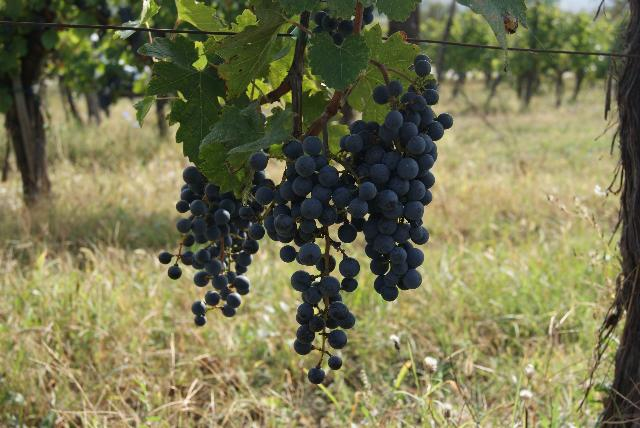grapes: (344, 54, 452, 301), (264, 135, 361, 385), (176, 190, 265, 326)
